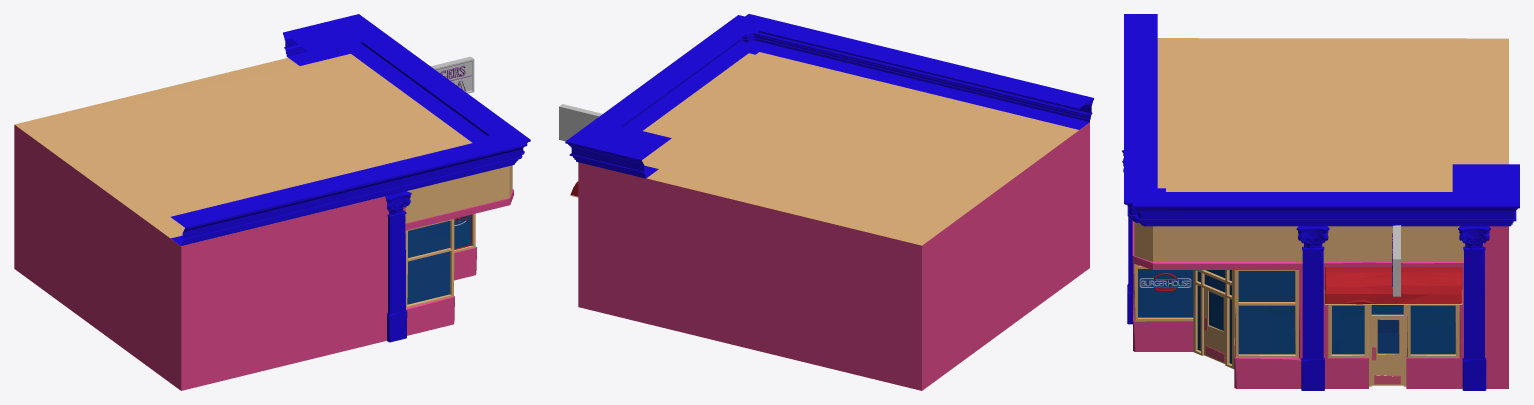
File: StoreFront02.fbx
3 views of the same model, side by side, from view 1: azimuth 30°, elevation 25°; view 2: azimuth 150°, elevation 25°; view 3: azimuth 270°, elevation 25° (orthographic). The views are drawn at different scales.
Parts seen in each view (by area): view 1: SM_StoreFront_02a.mo; view 2: SM_StoreFront_02a.mo; view 3: SM_StoreFront_02a.mo.
Boxes of the visible parts, left/top/right/bottom form: SM_StoreFront_02a.mo: left=14, top=14, right=530, bottom=390; SM_StoreFront_02a.mo: left=559, top=14, right=1093, bottom=390; SM_StoreFront_02a.mo: left=1122, top=14, right=1519, bottom=390.
Bounding box in the file's own units: 1544 × 600 × 1155.
